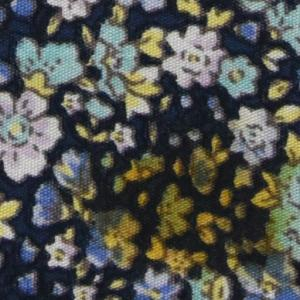Oil Stain: (49, 117, 300, 291)
